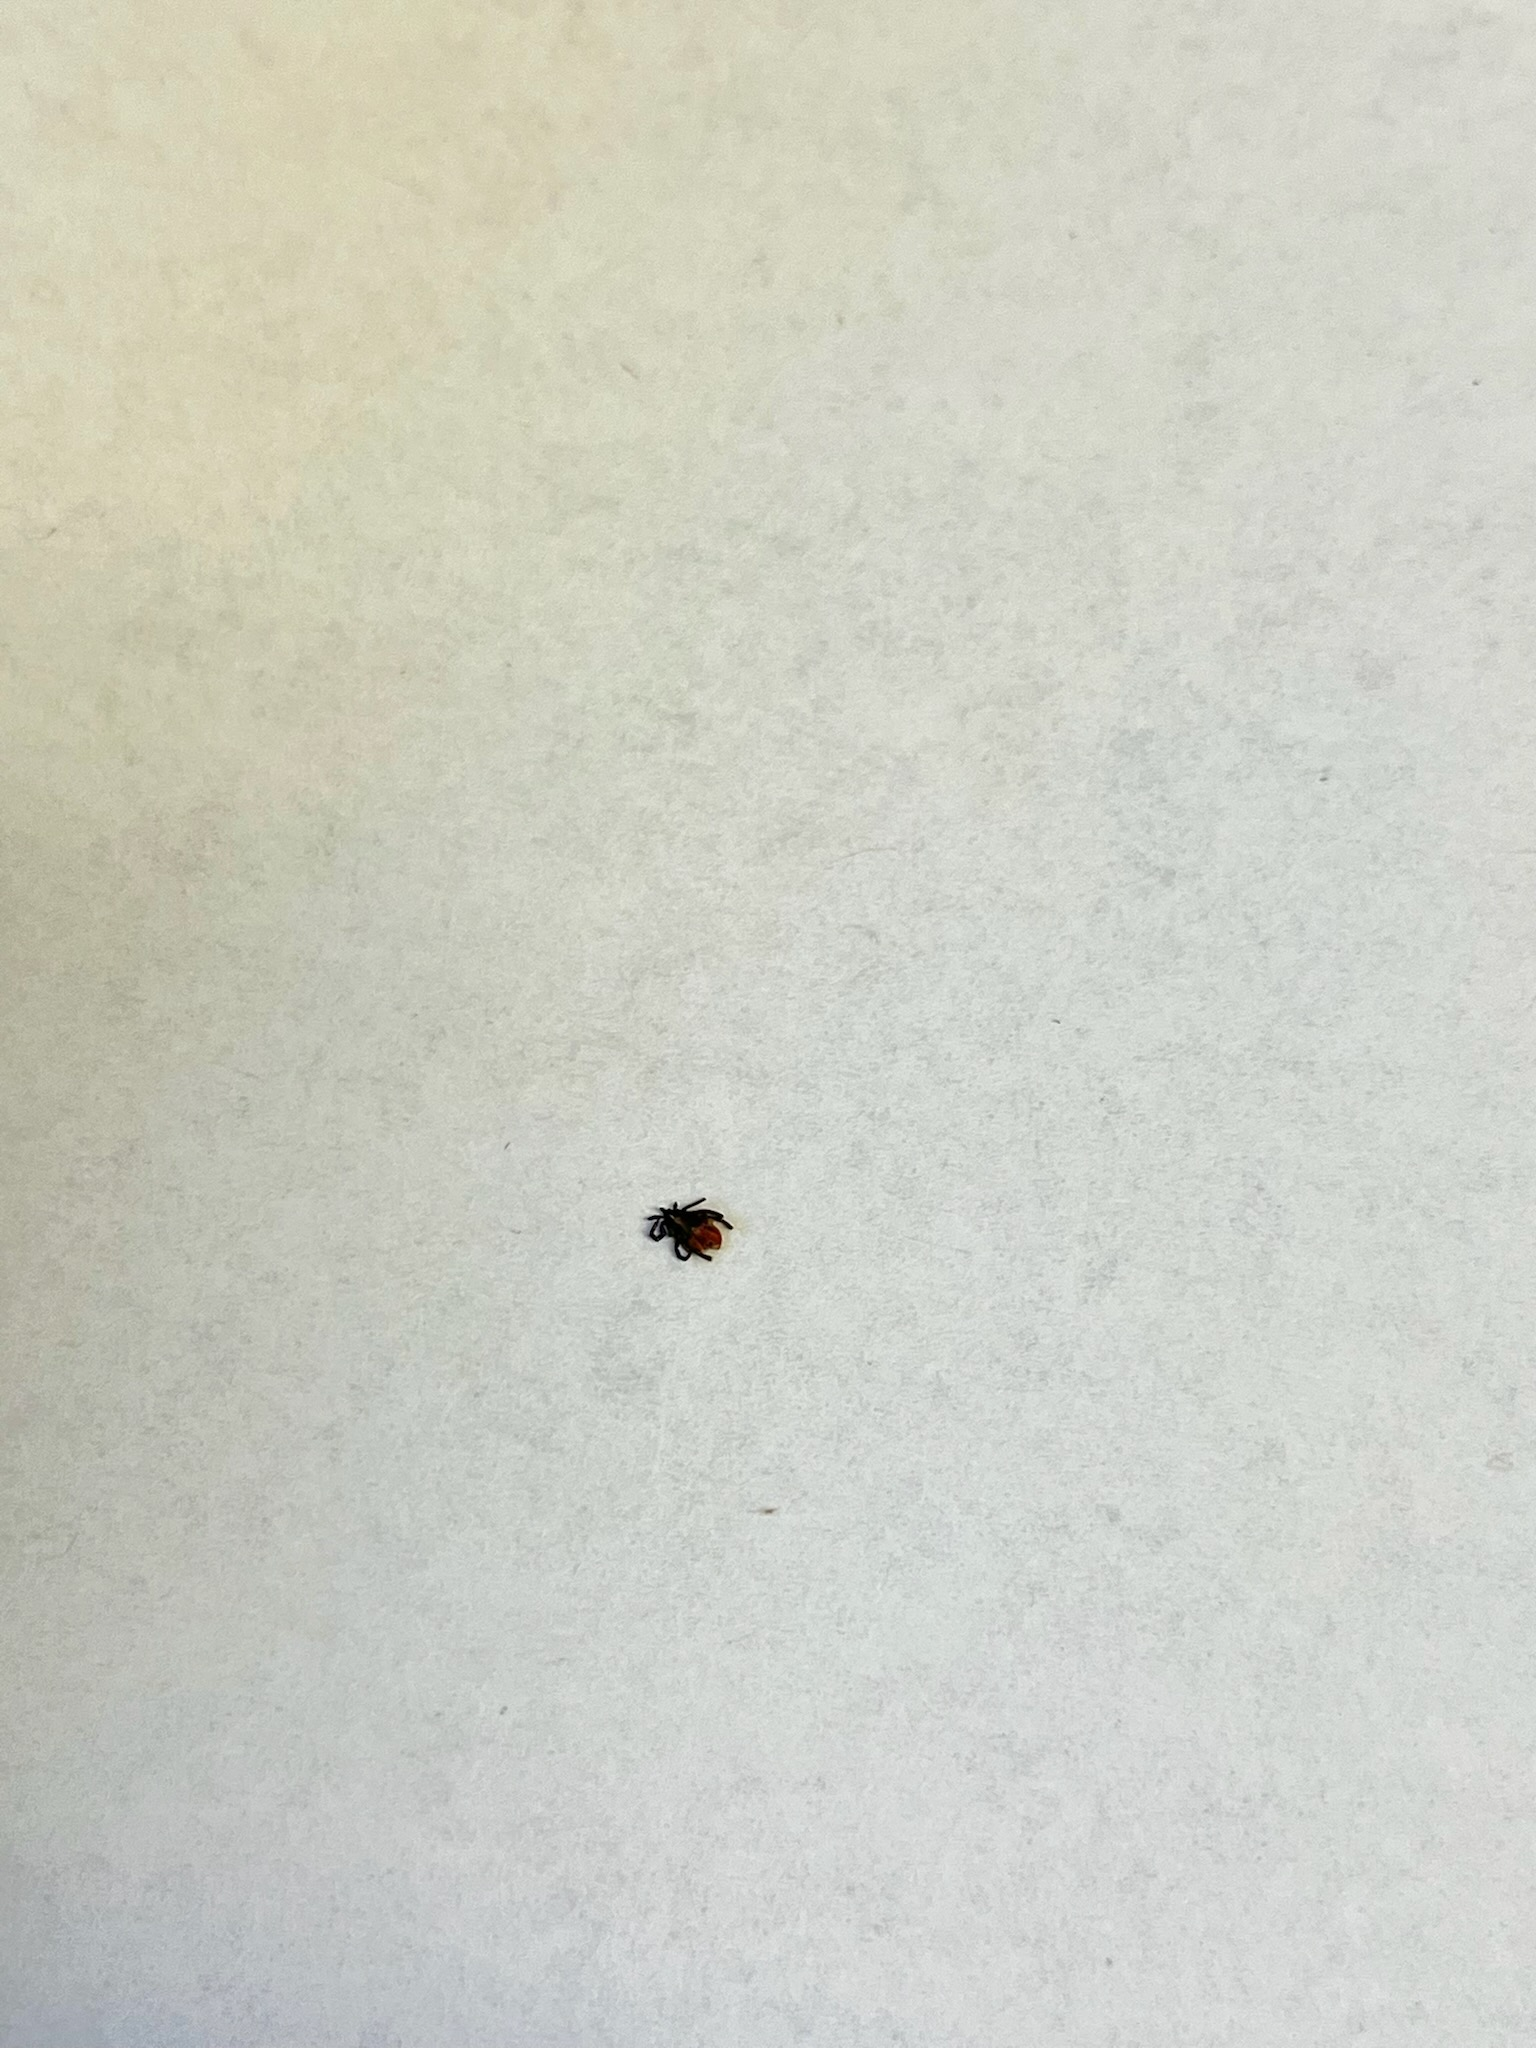unlabelled_tick: (629, 1184, 750, 1279)
